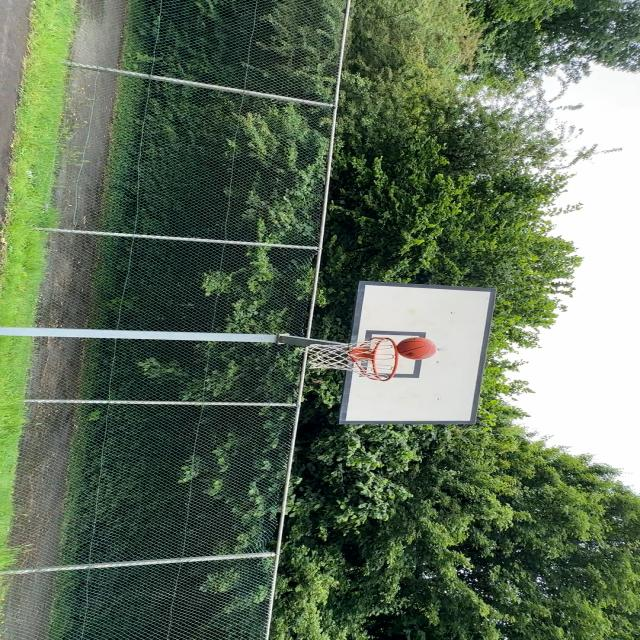rebound_hit: (394, 337, 437, 360)
